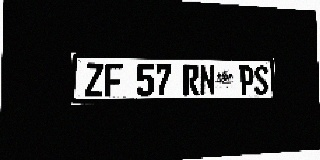5: (137, 64, 154, 96)
7: (155, 64, 172, 96)
F: (104, 63, 123, 97)
N: (200, 65, 215, 95)
P: (239, 65, 254, 95)
R: (183, 64, 199, 96)
S: (254, 66, 268, 95)
Z: (85, 63, 104, 97)
